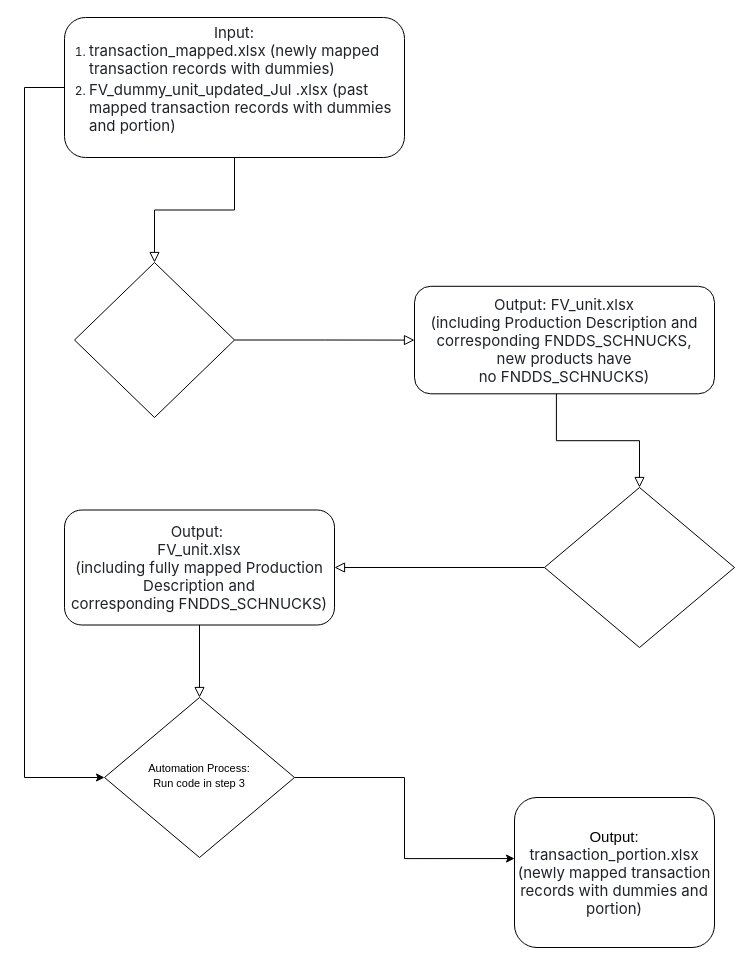
Image size: 752x965. Some labels were removed from this diagram. Each missing label, with the centre of its shape:
"Automation Process: Run code in step1" goes at pixel 154 340.
"Manual Process: Manually map the unit of new products and save in the same file" goes at pixel 639 567.
